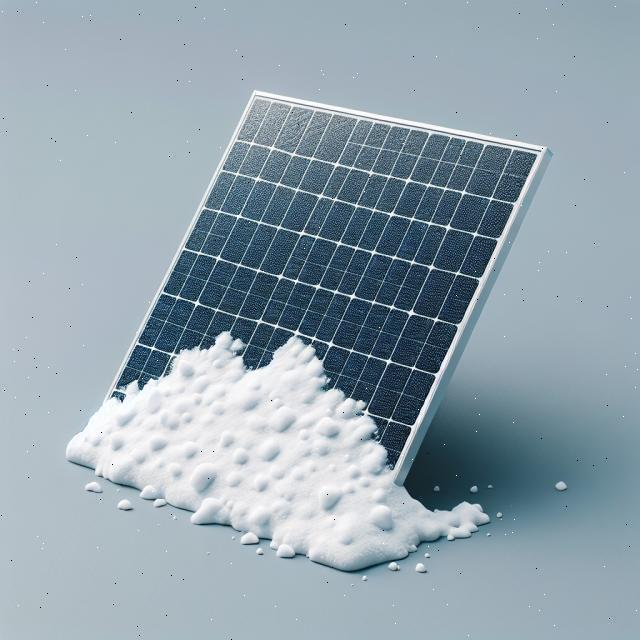Anomaly Solar Panel: (77, 28, 542, 574)
Snow: (78, 276, 428, 556)
